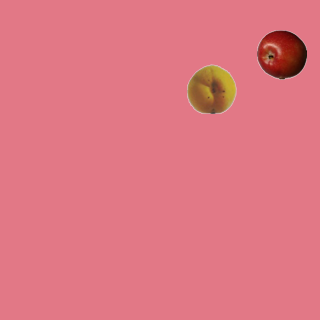Apple Braeburn: (256, 29, 306, 79)
Peach 2: (186, 63, 236, 113)
